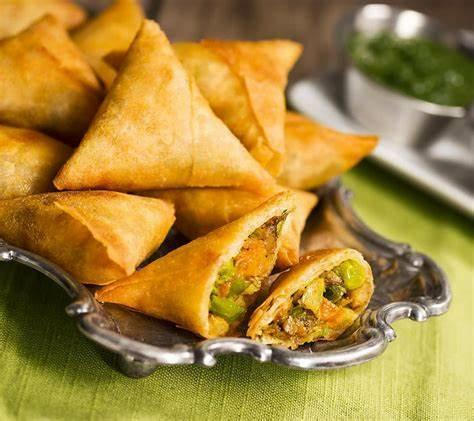Samosa: (93, 198, 375, 351), (52, 24, 284, 188), (171, 39, 307, 170), (0, 190, 178, 284)
